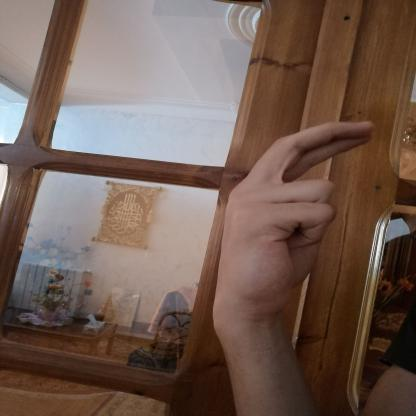ZAY: (200, 109, 389, 336)
